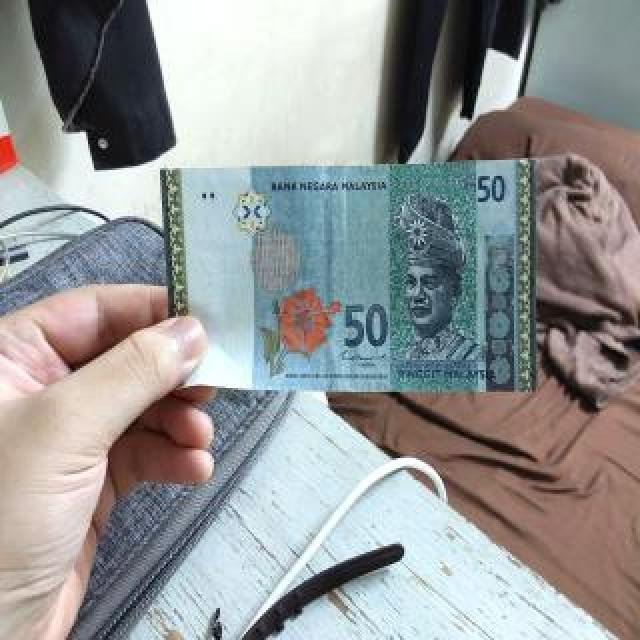50 Ringgit: (156, 158, 537, 389)
